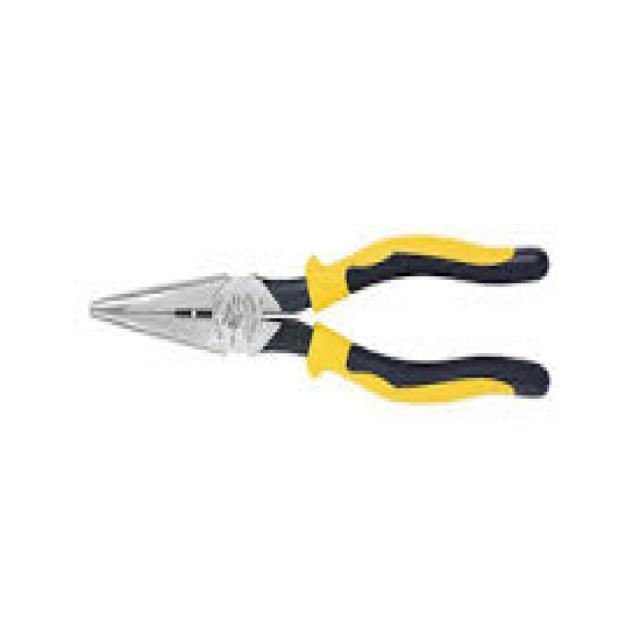pliers: (77, 214, 564, 424)
